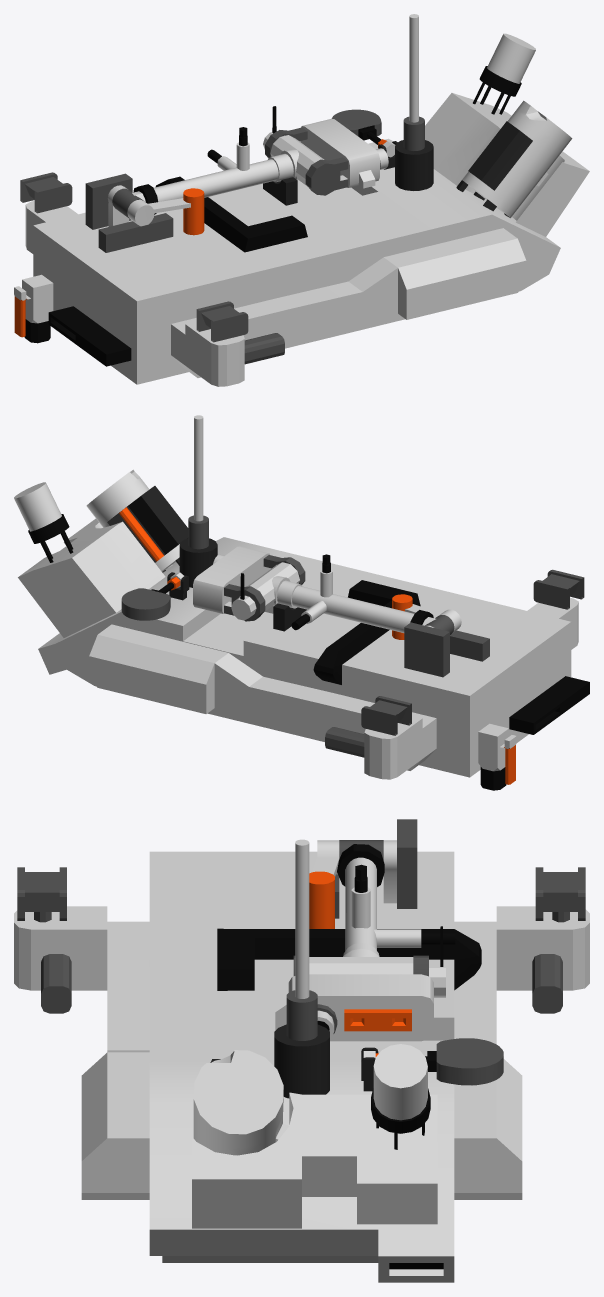
Rendered from roverbase.obj.
The picture shows the model from 3 angles, top to bottom: view 1: azimuth 30°, elevation 25°; view 2: azimuth 150°, elevation 25°; view 3: azimuth 270°, elevation 25°; orthographic projection. The views are drawn at different scales.
Visible parts, largest first — view 1: RoverModificado_SpacialRoverExploreralumWhite, RoverModificado_SpacialRoverExploreralumGray, RoverModificado_SpacialRoverExploreralumBlack, RoverModificado_SpacialRoverExploreralumGrayDeep, RoverModificado_SpacialRoverExploreralumOrange; view 2: RoverModificado_SpacialRoverExploreralumWhite, RoverModificado_SpacialRoverExploreralumGray, RoverModificado_SpacialRoverExploreralumBlack, RoverModificado_SpacialRoverExploreralumGrayDeep, RoverModificado_SpacialRoverExploreralumOrange; view 3: RoverModificado_SpacialRoverExploreralumWhite, RoverModificado_SpacialRoverExploreralumGray, RoverModificado_SpacialRoverExploreralumBlack, RoverModificado_SpacialRoverExploreralumGrayDeep, RoverModificado_SpacialRoverExploreralumOrange.
Boxes of the visible parts, box(x1,y1,x2,y2) form: RoverModificado_SpacialRoverExploreralumWhite: box(14, 14, 589, 386); RoverModificado_SpacialRoverExploreralumGray: box(20, 109, 424, 364); RoverModificado_SpacialRoverExploreralumBlack: box(24, 66, 521, 366); RoverModificado_SpacialRoverExploreralumGrayDeep: box(263, 121, 532, 217); RoverModificado_SpacialRoverExploreralumOrange: box(14, 139, 386, 337); RoverModificado_SpacialRoverExploreralumWhite: box(14, 415, 578, 779); RoverModificado_SpacialRoverExploreralumGray: box(121, 515, 584, 757); RoverModificado_SpacialRoverExploreralumBlack: box(28, 514, 589, 790); RoverModificado_SpacialRoverExploreralumGrayDeep: box(107, 486, 306, 631); RoverModificado_SpacialRoverExploreralumOrange: box(119, 507, 515, 784); RoverModificado_SpacialRoverExploreralumWhite: box(14, 839, 589, 1282); RoverModificado_SpacialRoverExploreralumGray: box(17, 819, 585, 1262); RoverModificado_SpacialRoverExploreralumBlack: box(217, 844, 481, 1269); RoverModificado_SpacialRoverExploreralumGrayDeep: box(210, 1024, 378, 1098); RoverModificado_SpacialRoverExploreralumOrange: box(309, 871, 411, 1056).
Bounding box in the file's own units: 10.27 × 5.1 × 6.8.
